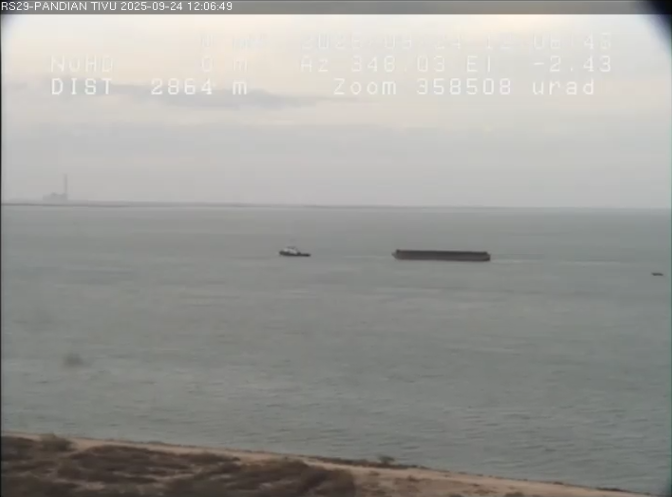BARGE: (373, 236, 501, 275)
OFFSHORE_SUPPLY_VESSEL: (271, 236, 317, 264)
TOWING: (249, 216, 543, 297)
